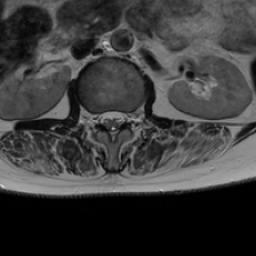CCS_normal: (108, 100, 117, 147)
LFS_normal: (126, 102, 135, 132)
LLS_normal: (117, 100, 126, 134)
RFS_normal: (90, 103, 99, 132)
RLS_normal: (99, 103, 108, 134)
